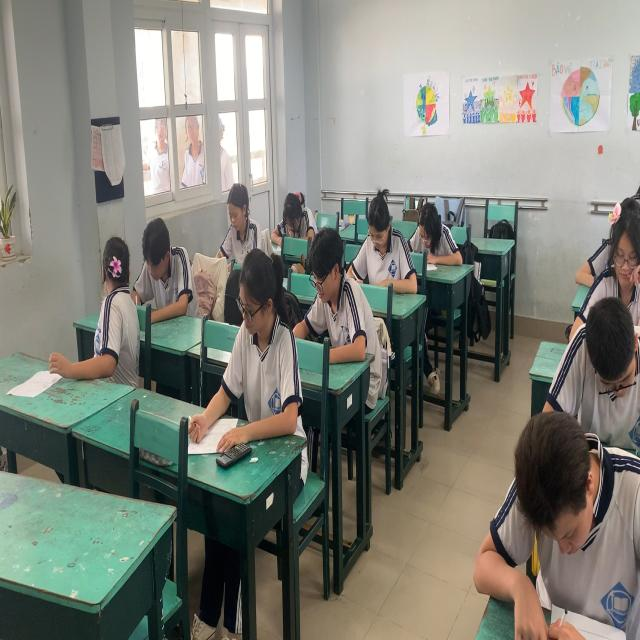cheating: (87, 232, 139, 387)
not_cheating: (504, 410, 626, 621), (227, 254, 297, 447), (564, 301, 639, 432), (302, 230, 362, 357), (134, 217, 188, 322), (354, 179, 406, 282), (605, 200, 640, 313), (220, 180, 258, 259), (418, 192, 450, 270), (276, 178, 310, 242)
